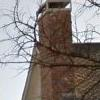Chimney: (27, 1, 80, 97)
